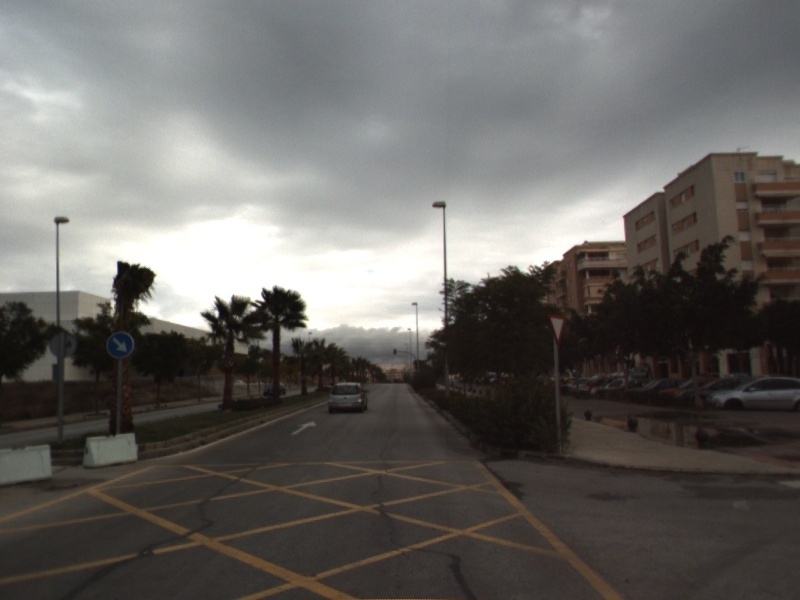STRAIGHT: (288, 418, 318, 437)
